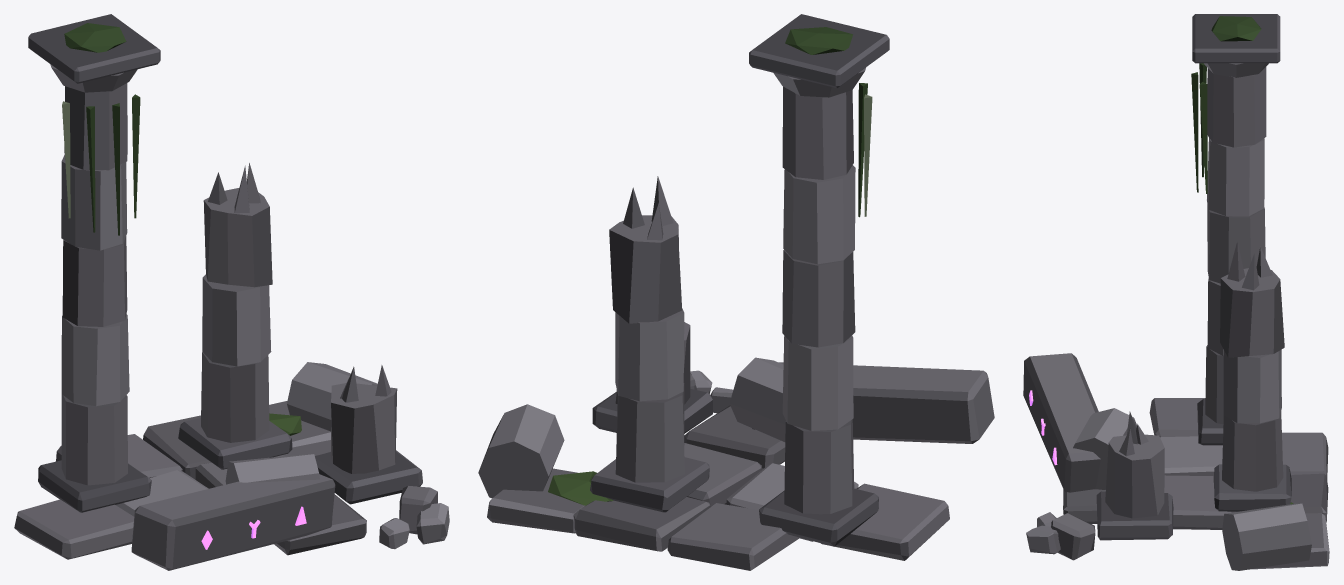
The model's file is ruin_columns.glb.
The picture shows the model from 3 angles, left to right: view 1: azimuth 30°, elevation 25°; view 2: azimuth 150°, elevation 25°; view 3: azimuth 270°, elevation 25°; orthographic projection. The views are drawn at different scales.
Visible parts, largest first — view 1: RuinColumns; view 2: RuinColumns; view 3: RuinColumns.
Part boxes in pixels (x1,y1,x2,y2): RuinColumns: [14, 14, 449, 570]; RuinColumns: [478, 14, 994, 570]; RuinColumns: [1023, 14, 1329, 570].
Size of the model in its own units: 1.95 by 2.36 by 1.51.
